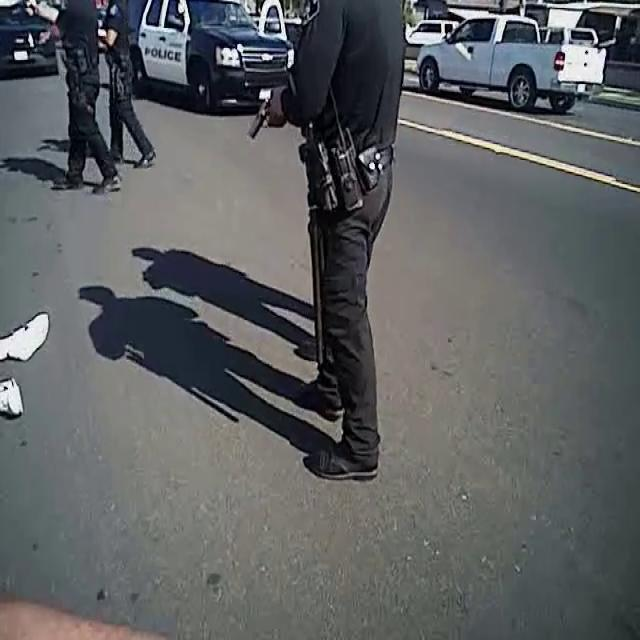gun: (289, 123, 343, 223), (244, 91, 276, 143)
